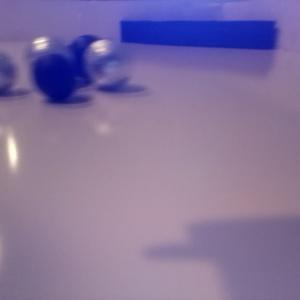alive_ball: (25, 35, 76, 87), (84, 38, 131, 88), (1, 49, 18, 96)
dead_ball: (58, 33, 111, 87), (31, 52, 77, 99)
